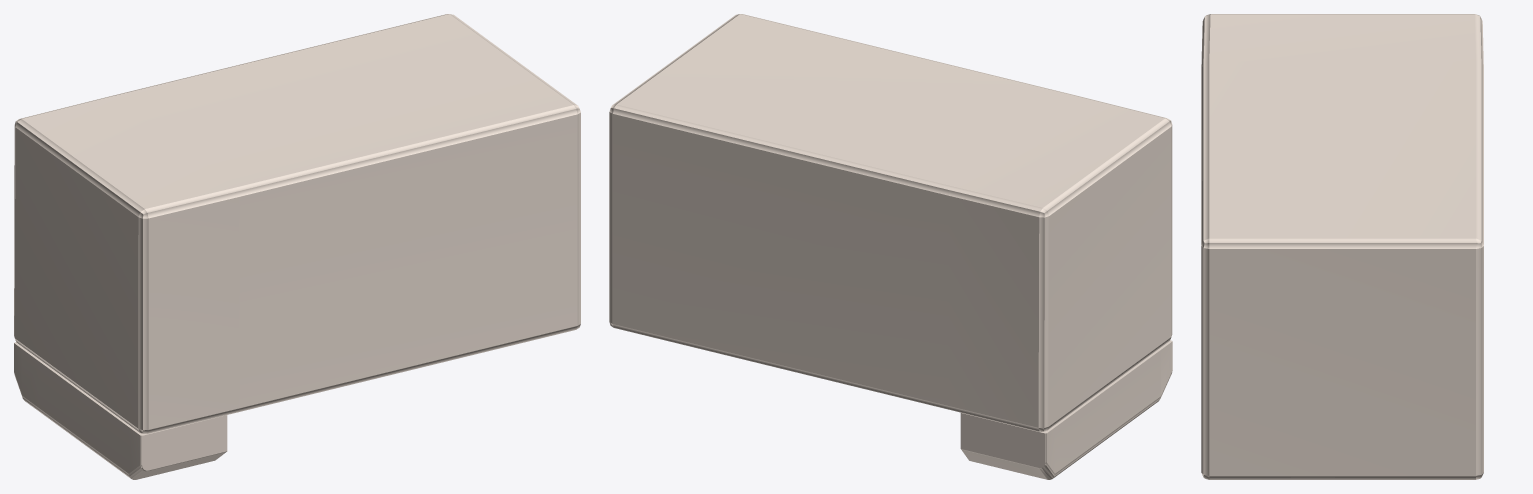
The model's file is BodymeshMicrowaveA5_0_GeomSubset_0.obj.
The picture shows the model from 3 angles, left to right: view 1: azimuth 30°, elevation 25°; view 2: azimuth 150°, elevation 25°; view 3: azimuth 270°, elevation 25°; orthographic projection. The views are drawn at different scales.
Visible parts, largest first — view 1: BodymeshMicrowaveA5_0_GeomSubset_0; view 2: BodymeshMicrowaveA5_0_GeomSubset_0; view 3: BodymeshMicrowaveA5_0_GeomSubset_0.
Part boxes in pixels (x1=…): BodymeshMicrowaveA5_0_GeomSubset_0: x1=14, y1=14, x2=580, y2=479; BodymeshMicrowaveA5_0_GeomSubset_0: x1=609, y1=14, x2=1172, y2=479; BodymeshMicrowaveA5_0_GeomSubset_0: x1=1201, y1=14, x2=1483, y2=479.
Size of the model in its own units: 0.6047 by 0.3663 by 0.3512.
